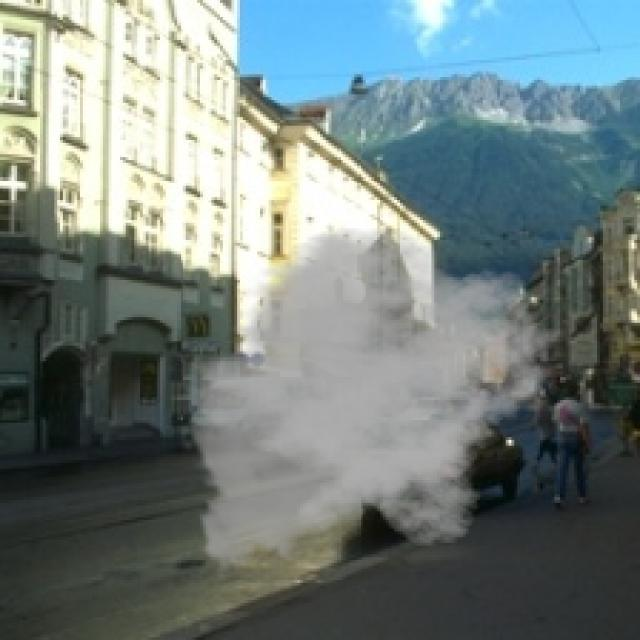Smoke: (177, 226, 566, 583)
